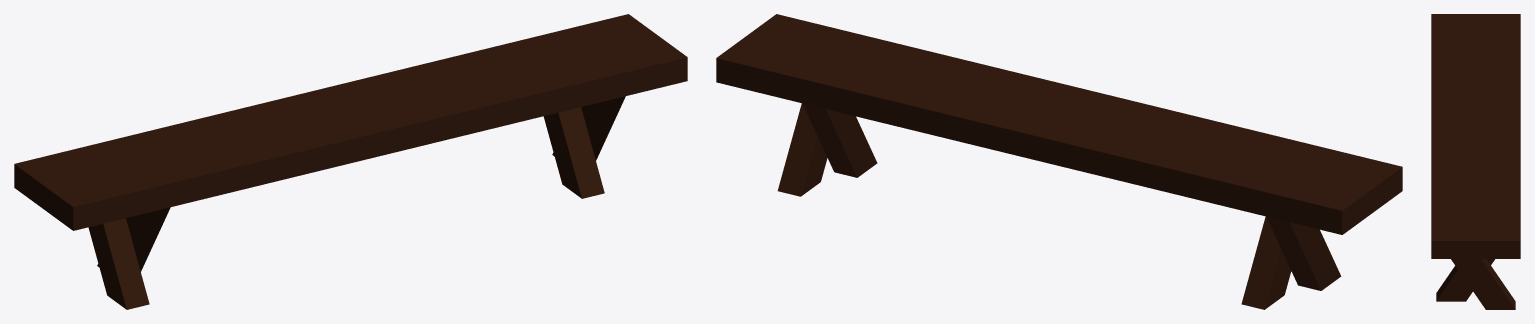
File: Set-Dressing-Bench.FBX
3 renders of one model, left to right at view 1: azimuth 30°, elevation 25°; view 2: azimuth 150°, elevation 25°; view 3: azimuth 270°, elevation 25°, orthographic. The views are drawn at different scales.
Visible parts, largest first — view 1: Set-Dressing-Bench; view 2: Set-Dressing-Bench; view 3: Set-Dressing-Bench.
Boxes of the visible parts, x1,y1,x2,y2 form: Set-Dressing-Bench: [14, 14, 687, 309]; Set-Dressing-Bench: [716, 14, 1402, 309]; Set-Dressing-Bench: [1431, 14, 1520, 309].
Bounding box in the file's own units: 27 × 5 × 4.5.
